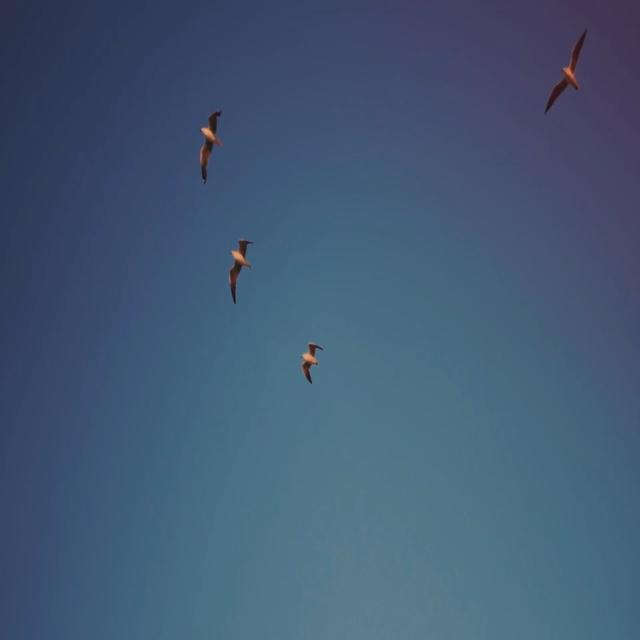bird: (542, 27, 589, 116), (198, 108, 224, 186), (227, 236, 255, 306), (300, 340, 324, 388)
